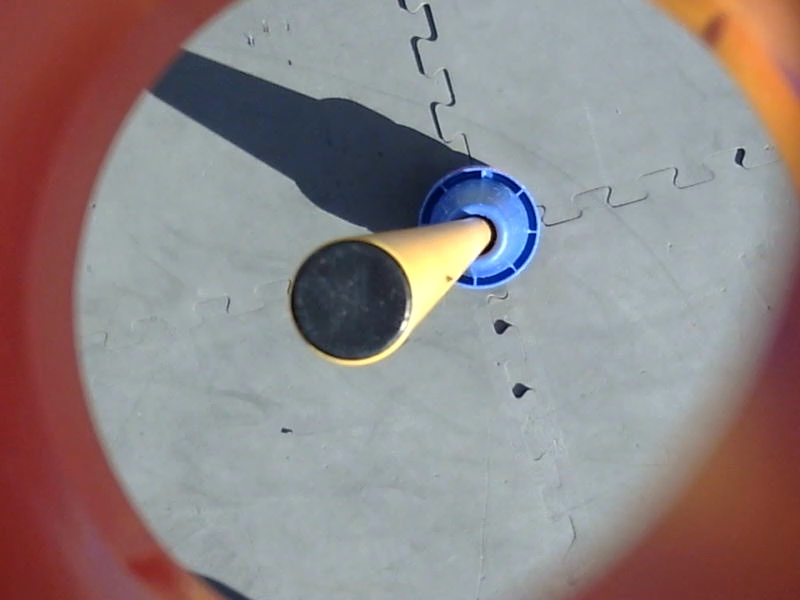tip: (284, 234, 419, 371)
